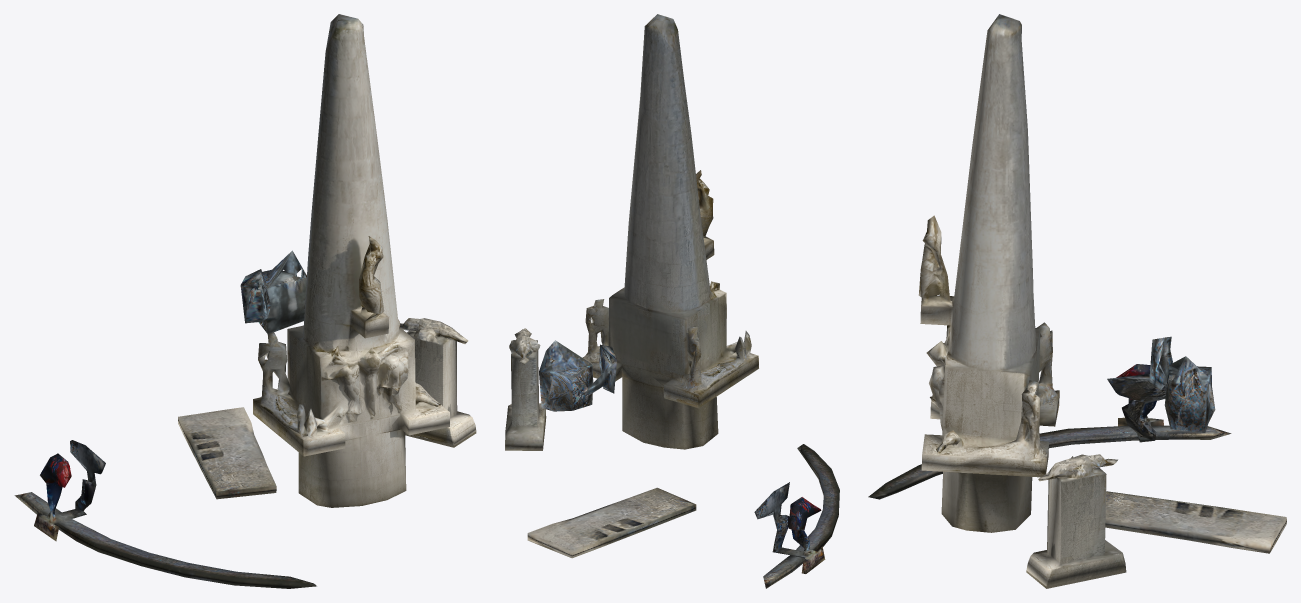
The model's file is dam_monument_source.glb.
The picture shows the model from 3 angles, left to right: view 1: azimuth 30°, elevation 25°; view 2: azimuth 150°, elevation 25°; view 3: azimuth 270°, elevation 25°; orthographic projection. The views are drawn at different scales.
Parts seen in each view (by area): view 1: tripo_node_0b616ea0-1bb5-4cc8-a760-bb300e16c775; view 2: tripo_node_0b616ea0-1bb5-4cc8-a760-bb300e16c775; view 3: tripo_node_0b616ea0-1bb5-4cc8-a760-bb300e16c775.
Part boxes in pixels (bbox=[...]): tripo_node_0b616ea0-1bb5-4cc8-a760-bb300e16c775: bbox=[14, 14, 476, 588]; tripo_node_0b616ea0-1bb5-4cc8-a760-bb300e16c775: bbox=[505, 14, 839, 588]; tripo_node_0b616ea0-1bb5-4cc8-a760-bb300e16c775: bbox=[868, 14, 1286, 588].
Bounding box in the file's own units: 0.7878 × 0.9819 × 0.6988.
Materials: 1 (1 with a texture image).
